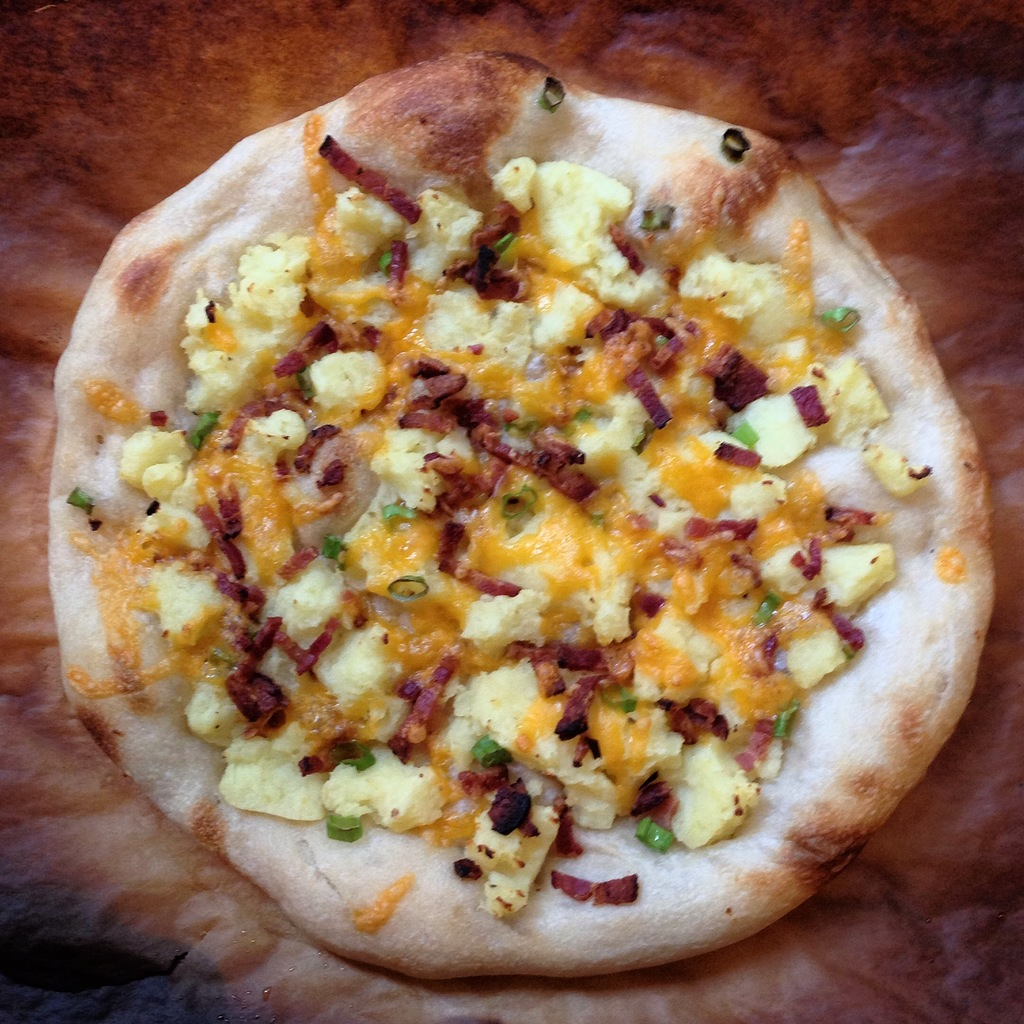Pizza: (14, 67, 1024, 992)
